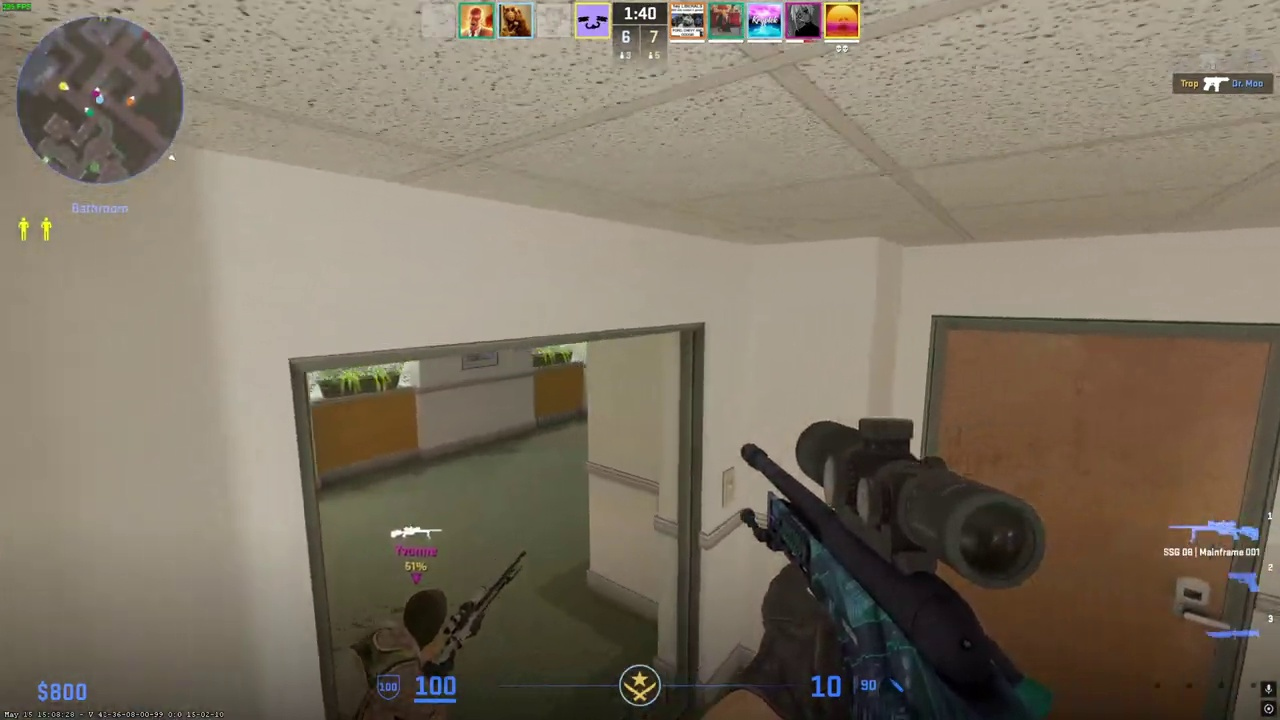Terrorist: (336, 589, 463, 720)
